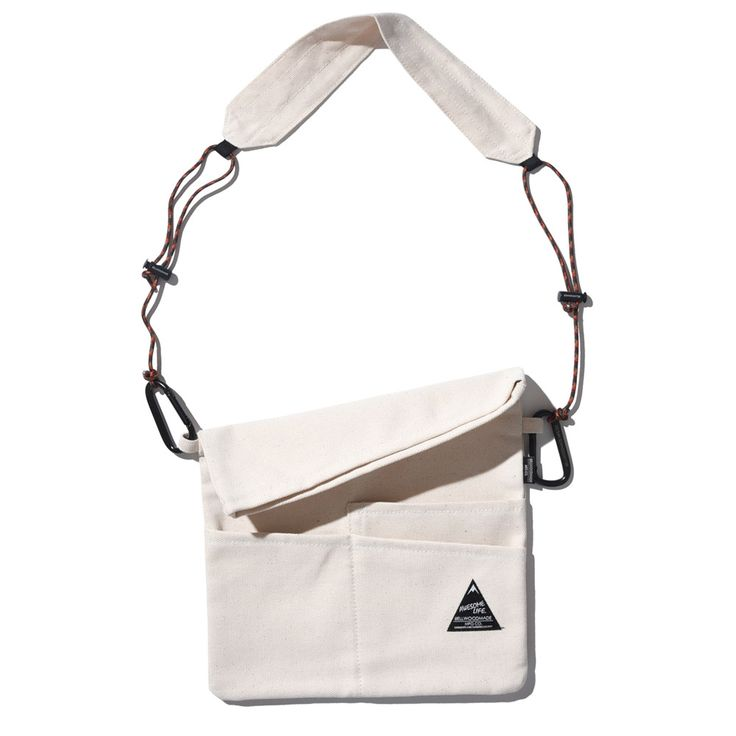nylon: (194, 367, 533, 702)
